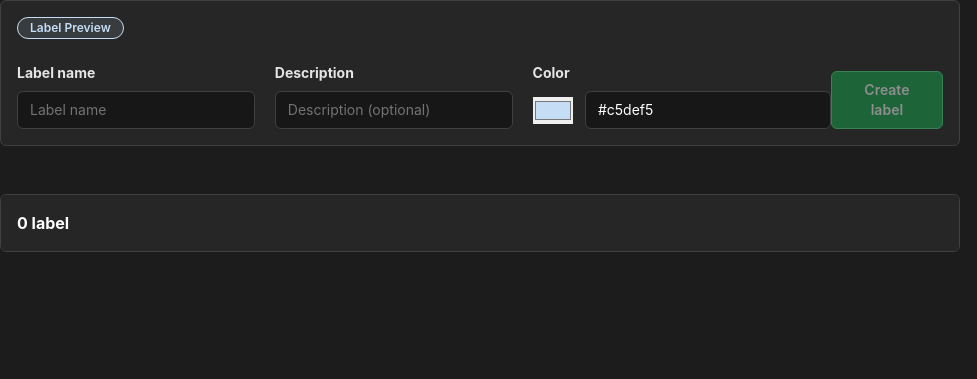
Test: 2 labels displayed when 2 labels added
Type "label1" into the field with test id "text-input". click: (136, 110)
box: [17,91,255,129]
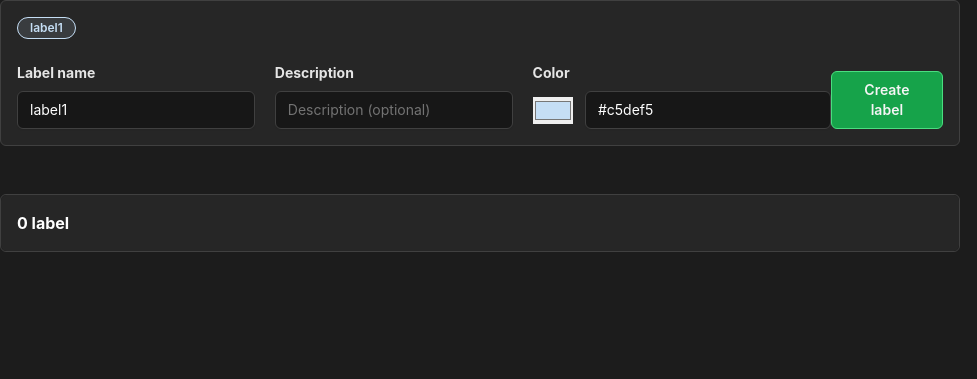
Click the button with test id "primary-button". click: (887, 100)
box: [831,71,943,129]
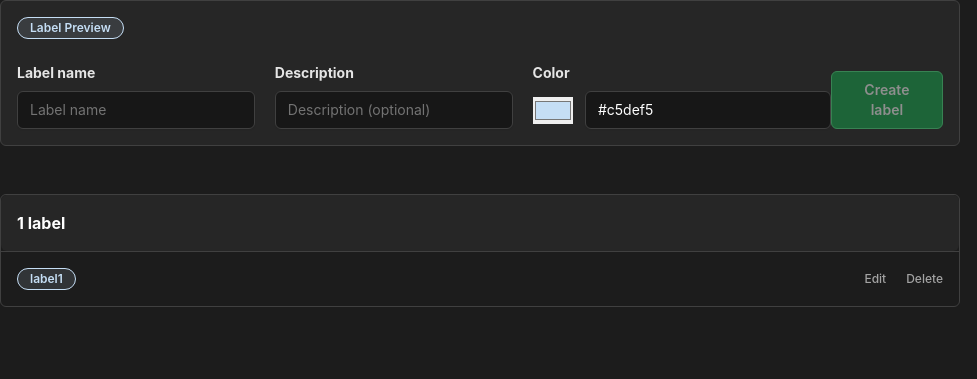
Type "label2" into the field with test id "text-input". click: (136, 110)
box: [17,91,255,129]
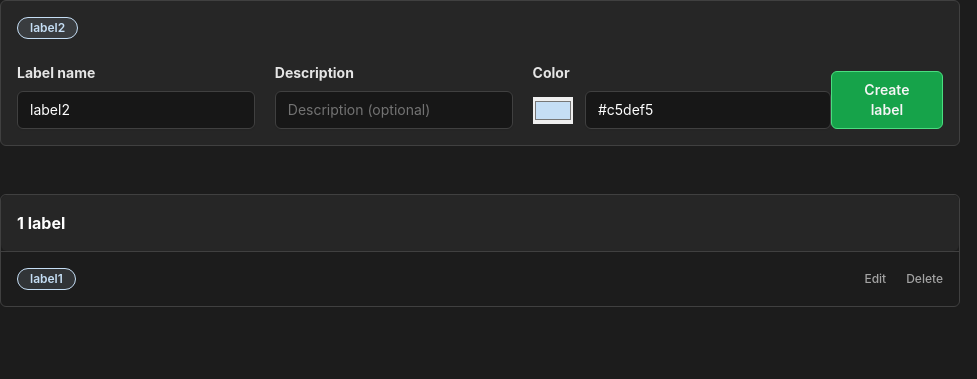
Click the button with test id "primary-button". click: (887, 100)
box: [831,71,943,129]
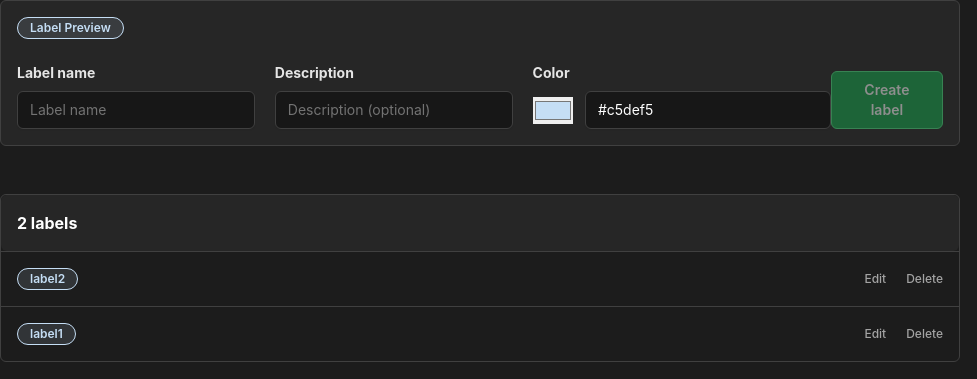
Expected: the text with test id "label-count" reads "2 labels", [17,213,77,233]
Expected: the number of buttons with test id "text-button" is 4, [864,271,886,287]; [906,271,943,287]; [864,326,886,342]; [906,326,943,342]
